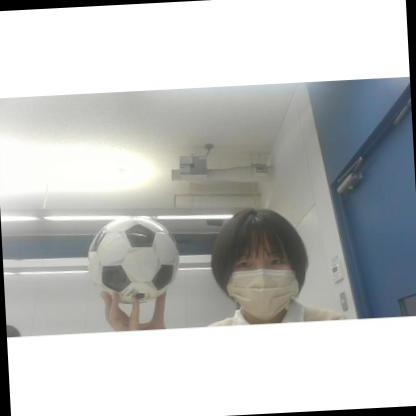ball: (86, 215, 181, 303)
